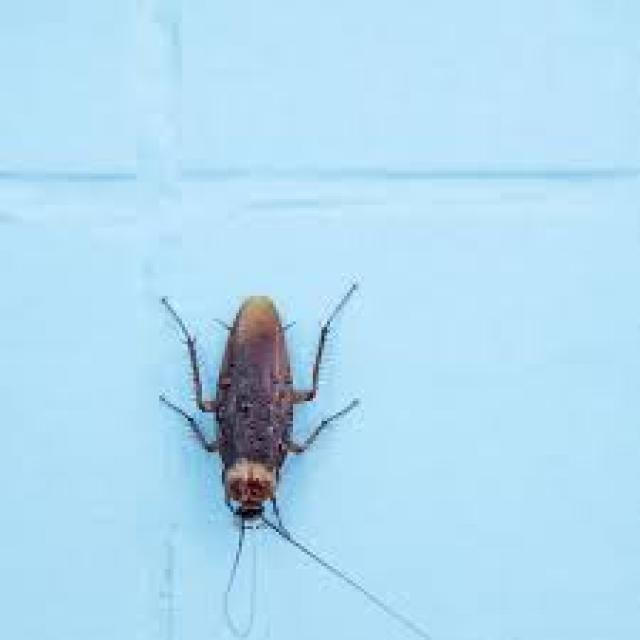Cockroach: (145, 273, 430, 640)
